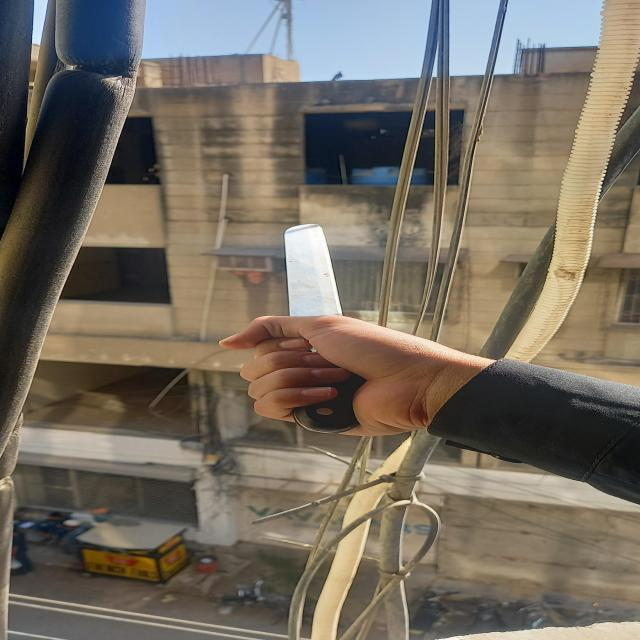Knife: (263, 218, 377, 434)
